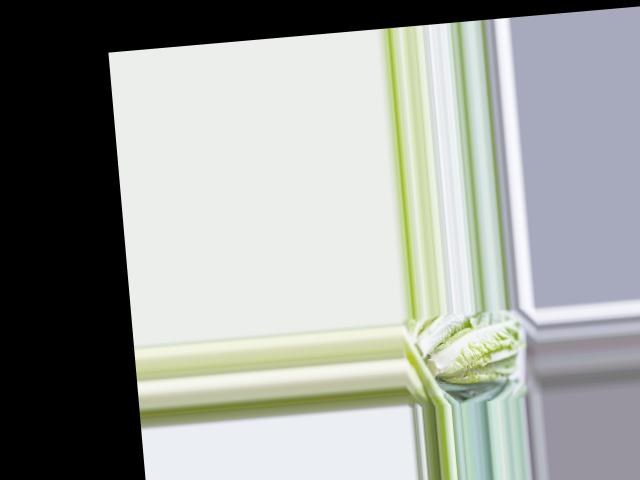lettuce: (423, 317, 526, 388)
